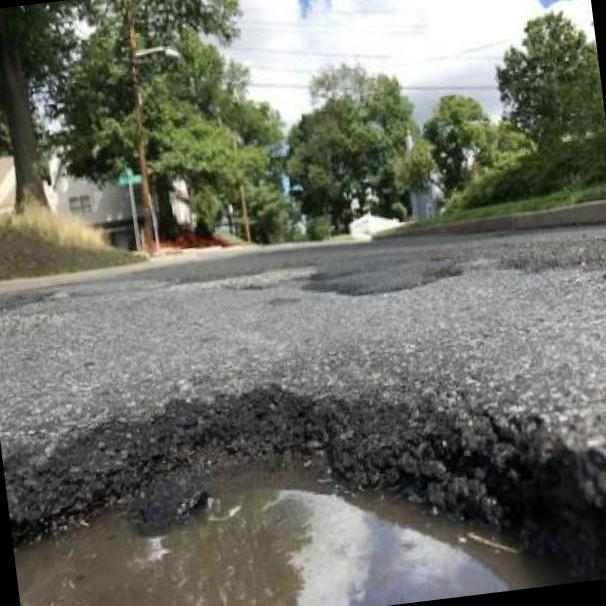pothole: (0, 370, 606, 606)
